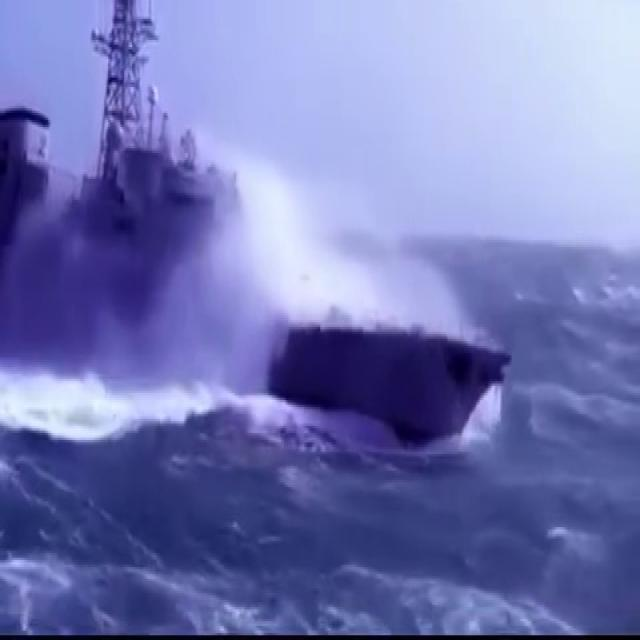houseboat: (0, 1, 514, 454)
